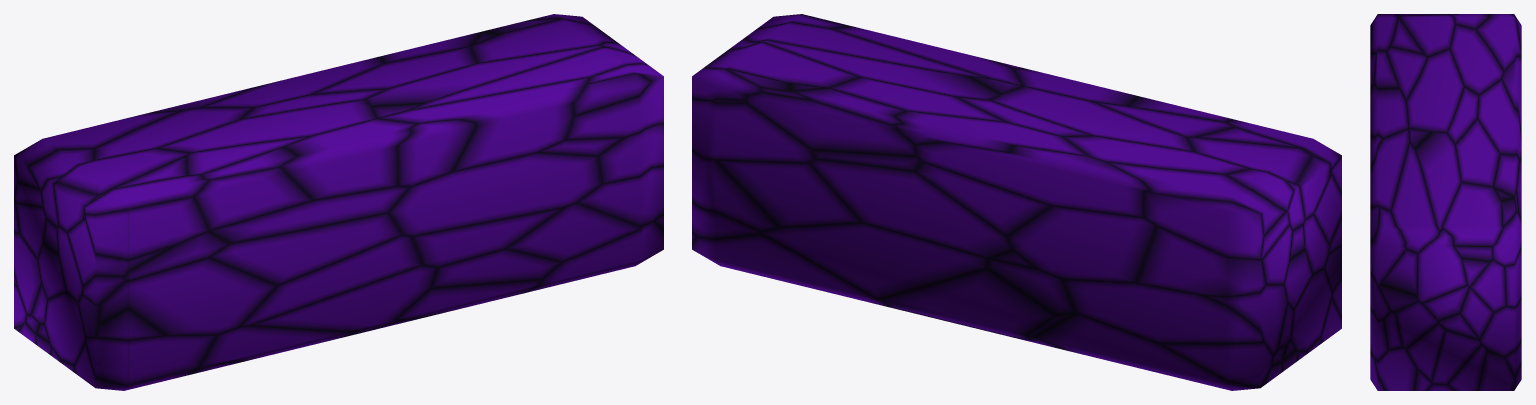
The model's file is Brick_04_3hit.obj.
3 views of the same model, side by side, from view 1: azimuth 30°, elevation 25°; view 2: azimuth 150°, elevation 25°; view 3: azimuth 270°, elevation 25° (orthographic). The views are drawn at different scales.
Parts seen in each view (by area): view 1: Cube_Paddle; view 2: Cube_Paddle; view 3: Cube_Paddle.
Boxes of the visible parts, x1,y1,x2,y2 form: Cube_Paddle: (14,14,663,390); Cube_Paddle: (692,14,1341,390); Cube_Paddle: (1370,14,1521,390).
Bounding box in the file's own units: 7.25 × 2.34 × 2.
Materials: 1 (1 with a texture image).
